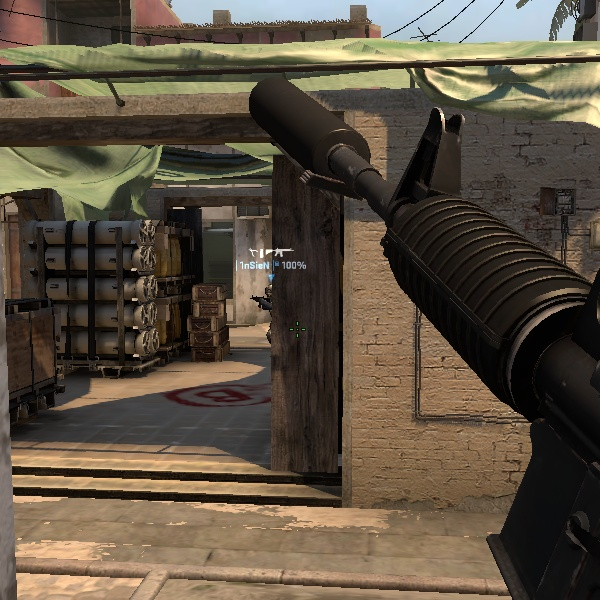t_body: (251, 282, 277, 346)
